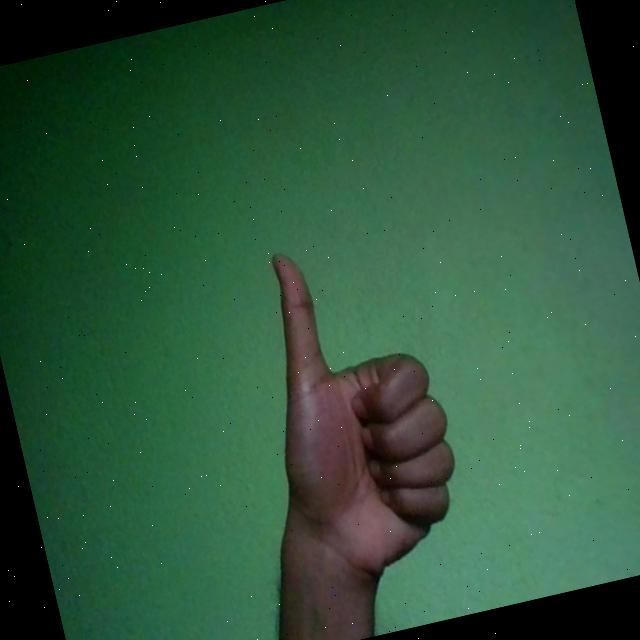Good Job: (236, 222, 478, 597)
